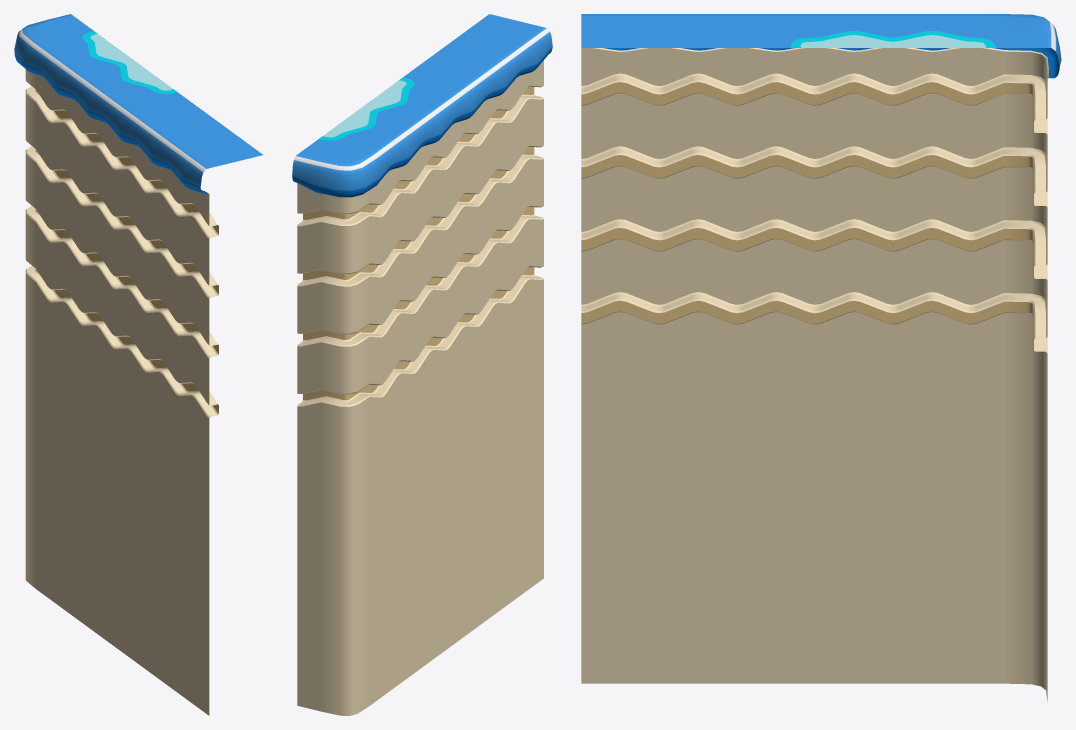
Rendered from V2_Ground_Right.fbx.
3 renders of one model, left to right at view 1: azimuth 30°, elevation 25°; view 2: azimuth 150°, elevation 25°; view 3: azimuth 270°, elevation 25°, orthographic. The views are drawn at different scales.
Visible parts, largest first — view 1: V2_Ground_Right; view 2: V2_Ground_Right; view 3: V2_Ground_Right.
Part boxes in pixels (box(x1,y1,x2,y2)): V2_Ground_Right: box(14, 14, 262, 715); V2_Ground_Right: box(292, 14, 552, 715); V2_Ground_Right: box(581, 14, 1061, 701).
Bounding box in the file's own units: 233 × 1892 × 1233.
